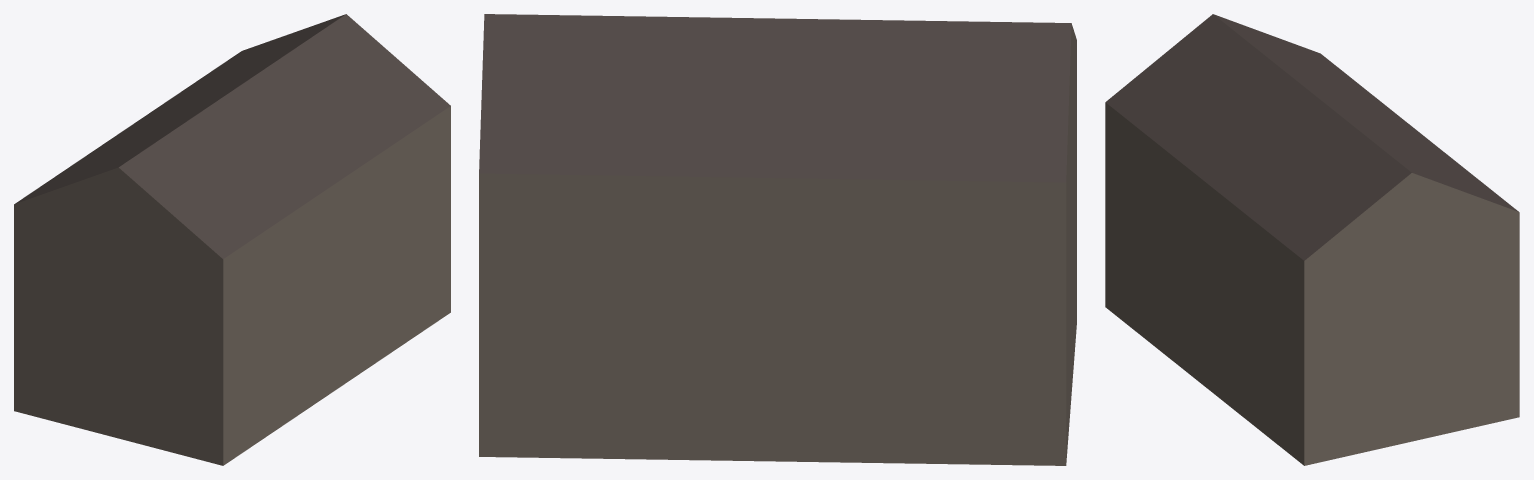
3 renders of one model, left to right at view 1: azimuth 30°, elevation 25°; view 2: azimuth 150°, elevation 25°; view 3: azimuth 270°, elevation 25°, orthographic. The views are drawn at different scales.
Parts seen in each view (by area): view 1: HP-w859088499; view 2: HP-w859088499; view 3: HP-w859088499.
Part boxes in pixels (x1,y1,x2,y2): HP-w859088499: [14, 14, 450, 465]; HP-w859088499: [479, 14, 1076, 465]; HP-w859088499: [1105, 14, 1519, 465].
Bounding box in the file's own units: 13.03 × 7.87 × 10.99.
